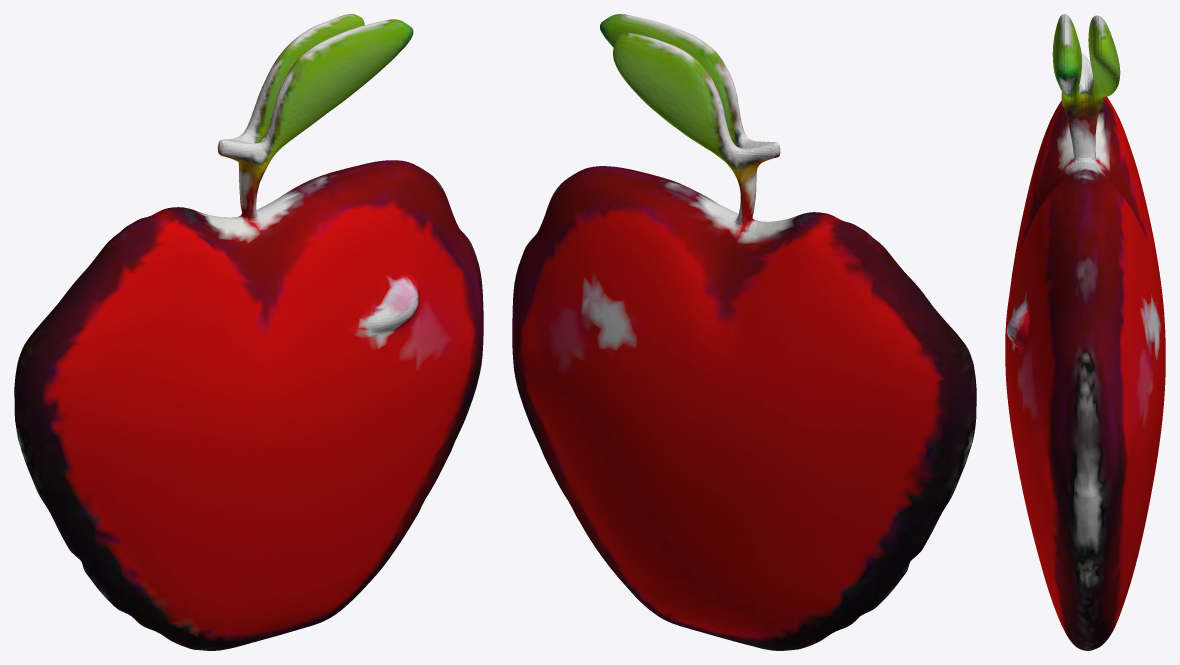
File: apple.glb
3 renders of one model, left to right at view 1: azimuth 30°, elevation 25°; view 2: azimuth 150°, elevation 25°; view 3: azimuth 270°, elevation 25°, orthographic. The views are drawn at different scales.
Visible parts, largest first — view 1: geometry_0; view 2: geometry_0; view 3: geometry_0.
Boxes of the visible parts, left/top/right/bottom form: geometry_0: left=14, top=14, right=483, bottom=650; geometry_0: left=512, top=14, right=976, bottom=650; geometry_0: left=1005, top=14, right=1165, bottom=650.
Bounding box in the file's own units: 0.4688 × 0.5769 × 0.1312.
